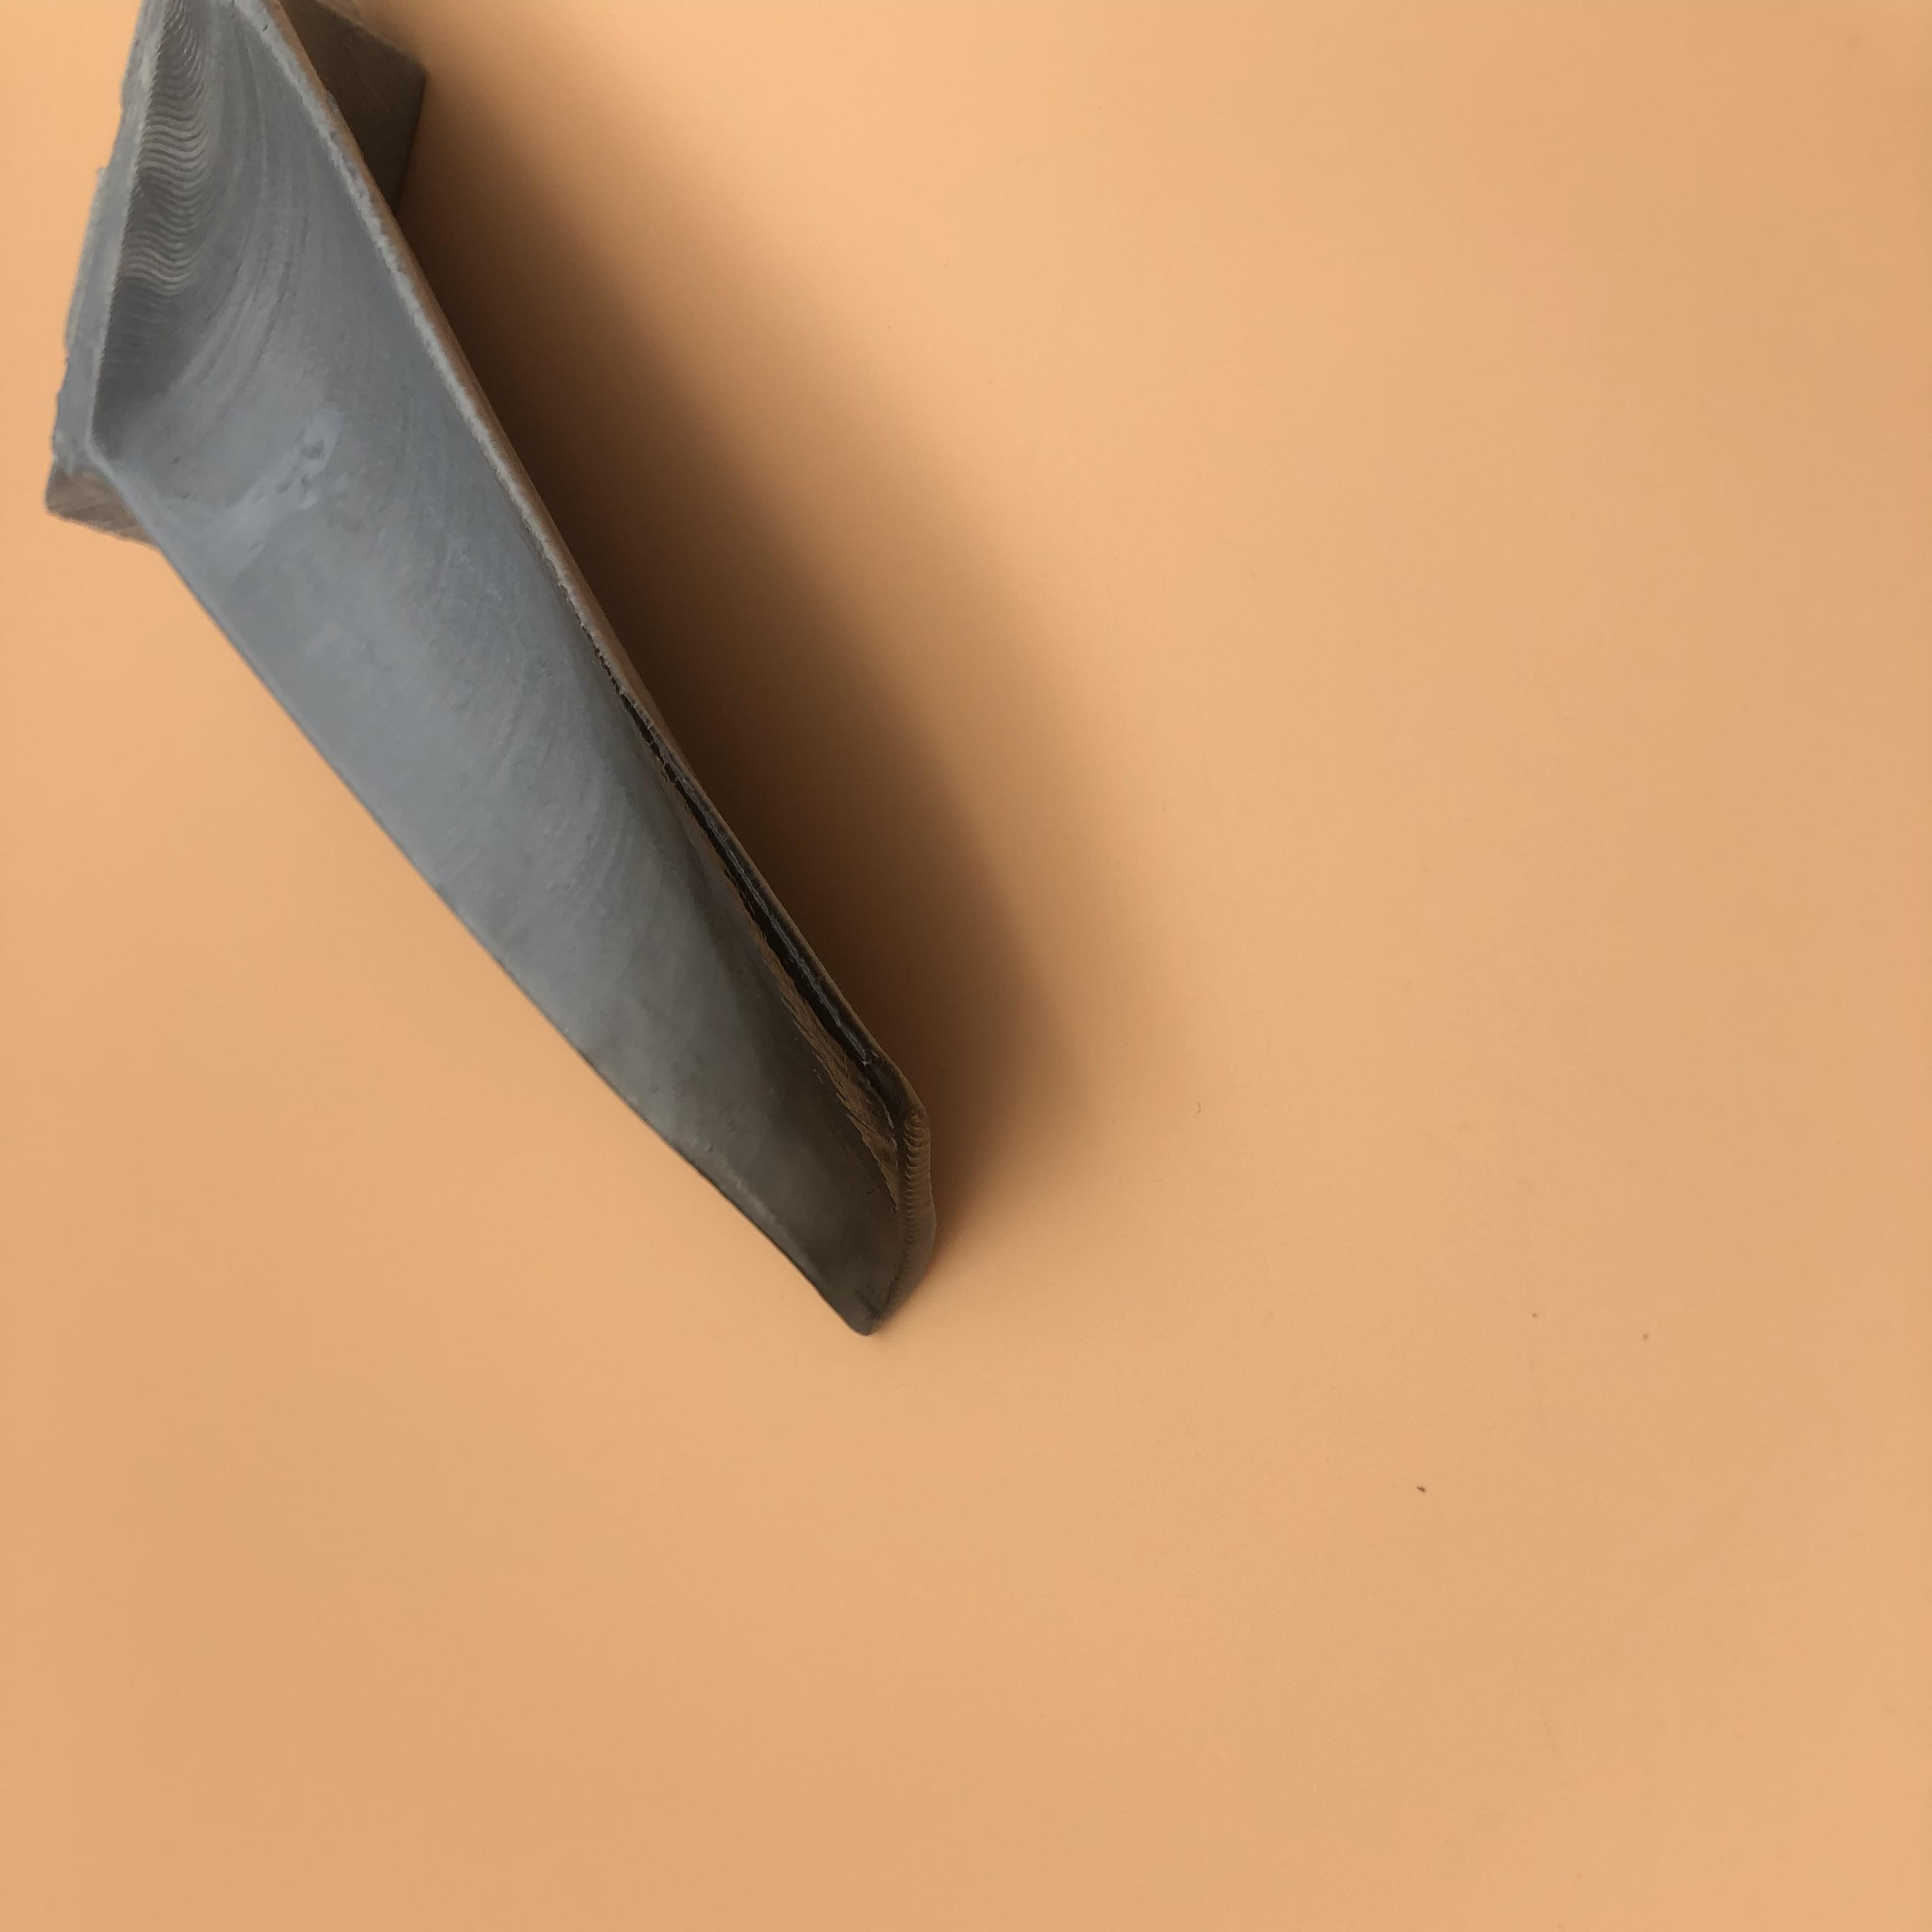ablation: (754, 959, 931, 1283)
